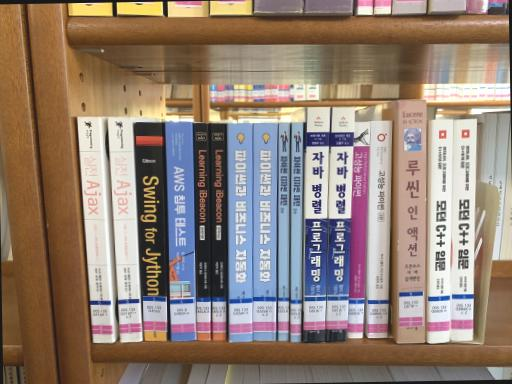book-spine: (76, 116, 114, 342), (107, 117, 143, 342), (397, 100, 427, 343), (135, 122, 168, 341), (165, 121, 196, 341), (326, 107, 355, 342), (304, 107, 330, 343), (227, 123, 253, 342), (451, 119, 476, 342), (253, 123, 278, 341), (368, 120, 393, 338), (429, 120, 453, 343), (347, 122, 371, 339), (192, 123, 210, 341), (211, 123, 228, 341), (291, 122, 303, 342), (278, 123, 290, 340)
